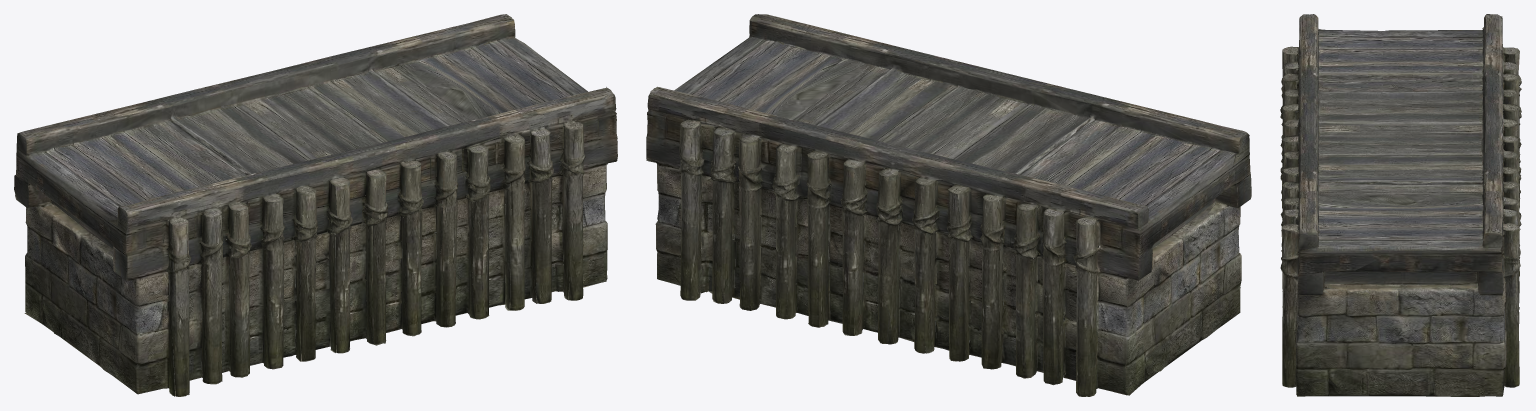
Rendered from wharf-pier-module.glb.
3 views of the same model, side by side, from view 1: azimuth 30°, elevation 25°; view 2: azimuth 150°, elevation 25°; view 3: azimuth 270°, elevation 25° (orthographic). The views are drawn at different scales.
Visible parts, largest first — view 1: Mesh_0; view 2: Mesh_0; view 3: Mesh_0.
Part boxes in pixels (<box>): Mesh_0: <box>14,14,617,396</box>; Mesh_0: <box>646,14,1251,396</box>; Mesh_0: <box>1280,14,1521,396</box>.
Bounding box in the file's own units: 1.9 × 0.7009 × 0.8827.
1 material, 1 textured.
